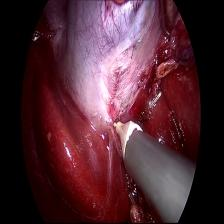Hook: (110, 113, 144, 162)
